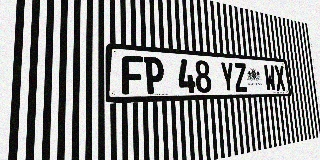4: (177, 59, 196, 93)
8: (194, 60, 212, 93)
F: (122, 55, 144, 95)
P: (144, 57, 165, 94)
W: (263, 65, 276, 91)
X: (274, 65, 286, 91)
Y: (220, 62, 235, 92)
Z: (233, 63, 248, 92)
